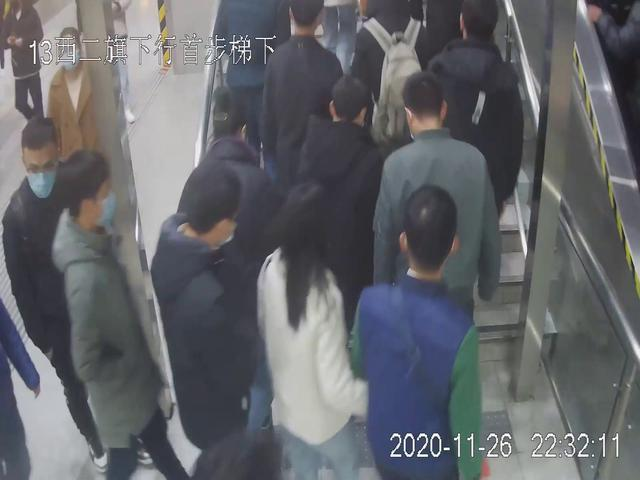person: (48, 145, 193, 480), (2, 113, 123, 469), (351, 183, 486, 479), (256, 177, 372, 480), (150, 157, 263, 466), (375, 68, 506, 327)
